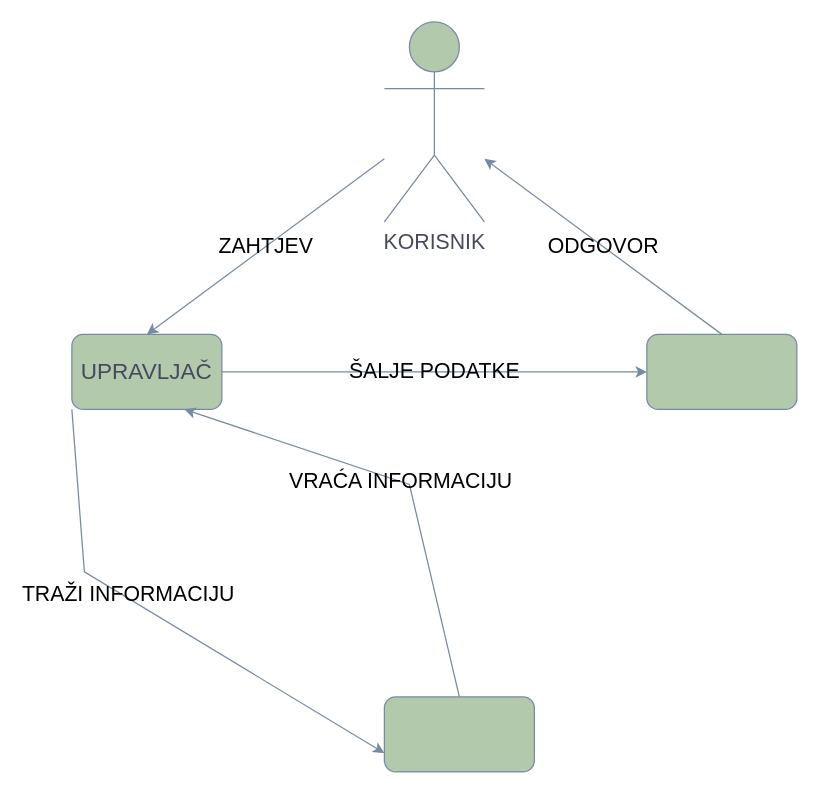
Image size: 819x794. Some labels were removed from this diagram. Here are the shapes that lost their labels. From the top down, the centre of each, then its label:
At (721,371): "POGLED".
At (458,734): "MODEL".
